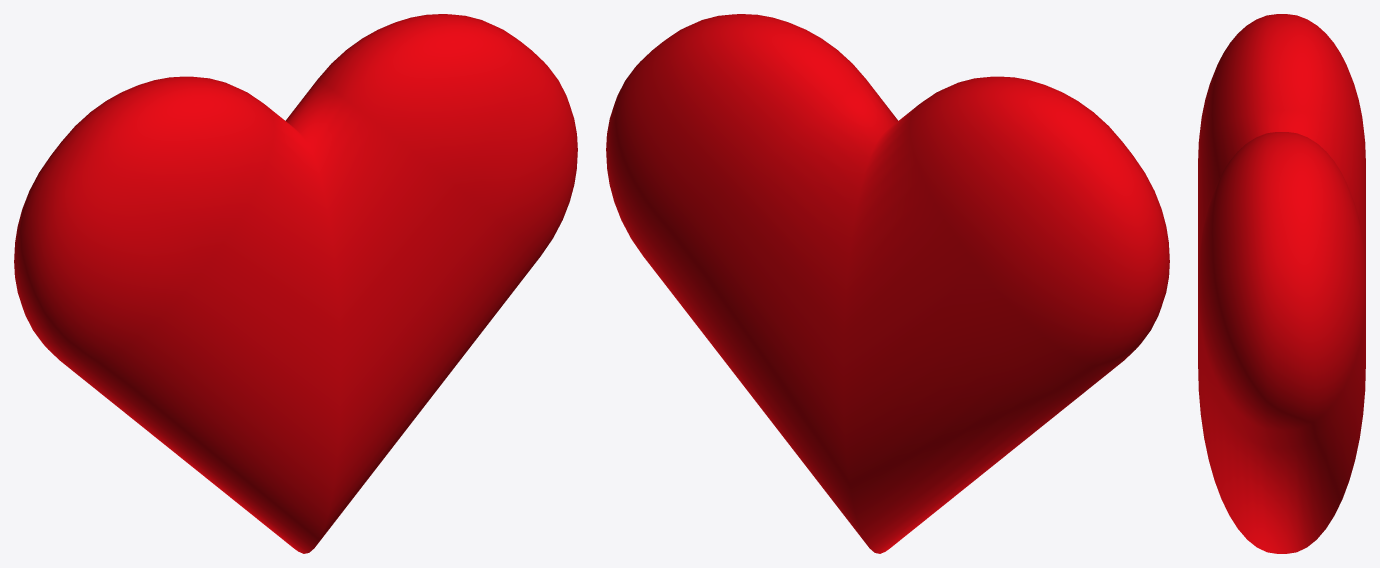
Rendered from heart.fbx.
3 views of the same model, side by side, from view 1: azimuth 30°, elevation 25°; view 2: azimuth 150°, elevation 25°; view 3: azimuth 270°, elevation 25° (orthographic). The views are drawn at different scales.
Visible parts, largest first — view 1: Cube; view 2: Cube; view 3: Cube.
Boxes of the visible parts, x1=… form: Cube: x1=14, y1=14, x2=577, y2=553; Cube: x1=606, y1=14, x2=1169, y2=553; Cube: x1=1198, y1=14, x2=1365, y2=553.
Bounding box in the file's own units: 385 × 334 × 109.
